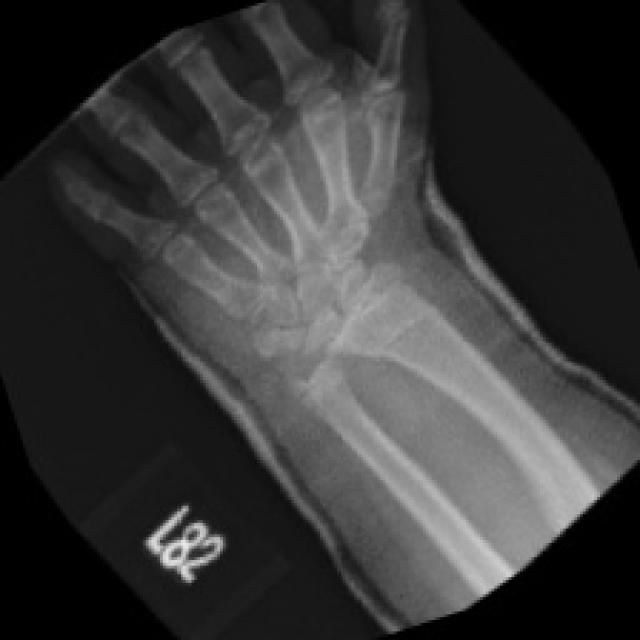fracture: (352, 308, 454, 374)
